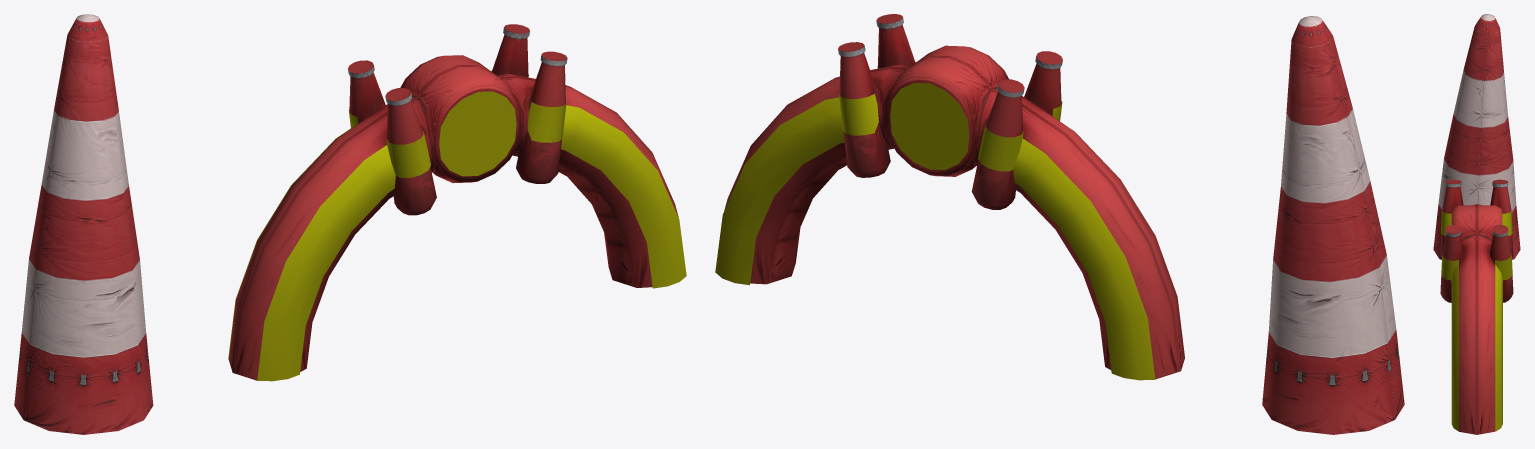
Rendered from cola.FBX.
3 views of the same model, side by side, from view 1: azimuth 30°, elevation 25°; view 2: azimuth 150°, elevation 25°; view 3: azimuth 270°, elevation 25° (orthographic). The views are drawn at different scales.
Visible parts, largest first — view 1: prop_inflatearch_01.#dr, prop_inflategate_01.#dr; view 2: prop_inflatearch_01.#dr, prop_inflategate_01.#dr; view 3: prop_inflatearch_01.#dr, prop_inflategate_01.#dr.
Part boxes in pixels (x1,y1,x2,y2): prop_inflatearch_01.#dr: (228,24,686,381); prop_inflategate_01.#dr: (14,14,153,434); prop_inflatearch_01.#dr: (715,14,1184,380); prop_inflategate_01.#dr: (1262,16,1404,434); prop_inflatearch_01.#dr: (1440,179,1513,434); prop_inflategate_01.#dr: (1433,14,1520,259).
Bounding box in the file's own units: 267 × 149 × 48.83.
